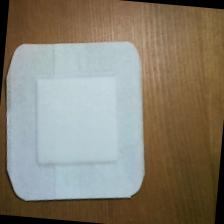Dressing: (1, 30, 161, 215)
